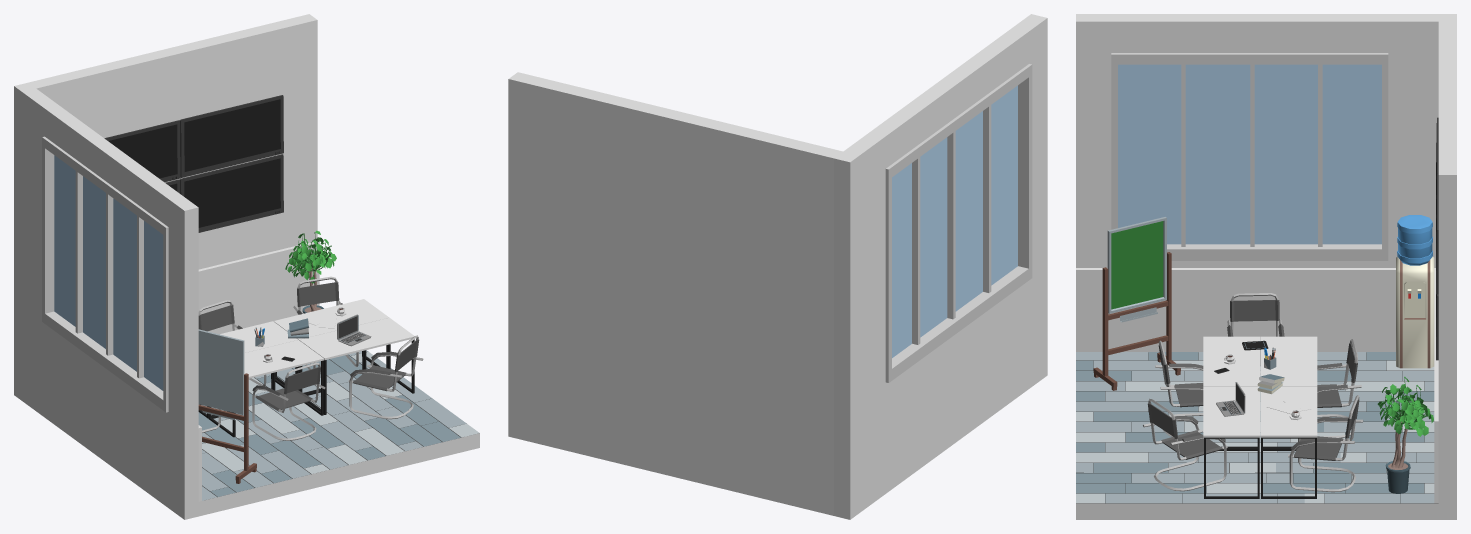
The model's file is room_10.glb.
The picture shows the model from 3 angles, left to right: view 1: azimuth 30°, elevation 25°; view 2: azimuth 150°, elevation 25°; view 3: azimuth 270°, elevation 25°; orthographic projection. The views are drawn at different scales.
Parts seen in each view (by area): view 1: Walls_006.028, window_017.003, floor_010.001, Walls_006.031, Walls_006.030, Walls_006.029, Walls_003.012, electronics_027.007, Walls_011.004, electronics_027.005, Walls_006.032, toy_024.001 (+11 smaller); view 2: Walls_006.028, window_017.003, Walls_006.029, Walls_006.031, Walls_006.032, Walls_006.030; view 3: window_017.003, floor_010.001, Walls_003.013, Walls_006.029, Walls_006.032, Walls_011.004, Walls_006.028, Walls_006.030, toy_024.001, electronics_002.001, office_table_035.003, office_table_035.005 (+11 smaller).
Boxes of the visible parts, x1,y1,x2,y2 form: Walls_006.028: (28,14,317,269); window_017.003: (42,136,168,412); floor_010.001: (198,350,479,500); Walls_006.031: (46,325,168,507); Walls_006.030: (168,195,198,519); Walls_006.029: (14,82,60,418); Walls_003.012: (198,241,319,334); electronics_027.007: (180,95,283,177); Walls_011.004: (198,352,479,516); electronics_027.005: (180,154,283,232); Walls_006.032: (46,106,181,226); toy_024.001: (198,329,256,483); Walls_006.028: (508,72,842,515); window_017.003: (885,64,1032,382); Walls_006.029: (834,131,887,519); Walls_006.031: (887,281,1028,491); Walls_006.032: (872,28,1028,166); Walls_006.030: (1012,14,1047,388); window_017.003: (1111,53,1388,260); floor_010.001: (1076,352,1434,503); Walls_003.013: (1076,268,1395,351); Walls_006.029: (1384,14,1456,267); Walls_006.032: (1112,14,1384,52); Walls_011.004: (1076,352,1438,519); Walls_006.028: (1438,21,1456,519); Walls_006.030: (1076,14,1112,267); toy_024.001: (1093,217,1180,390); electronics_002.001: (1396,215,1434,368); office_table_035.003: (1203,386,1260,498); office_table_035.005: (1260,386,1317,498).
Size of the model in its own units: 4.24 by 4.2 by 4.2.
1 material, 1 textured.
